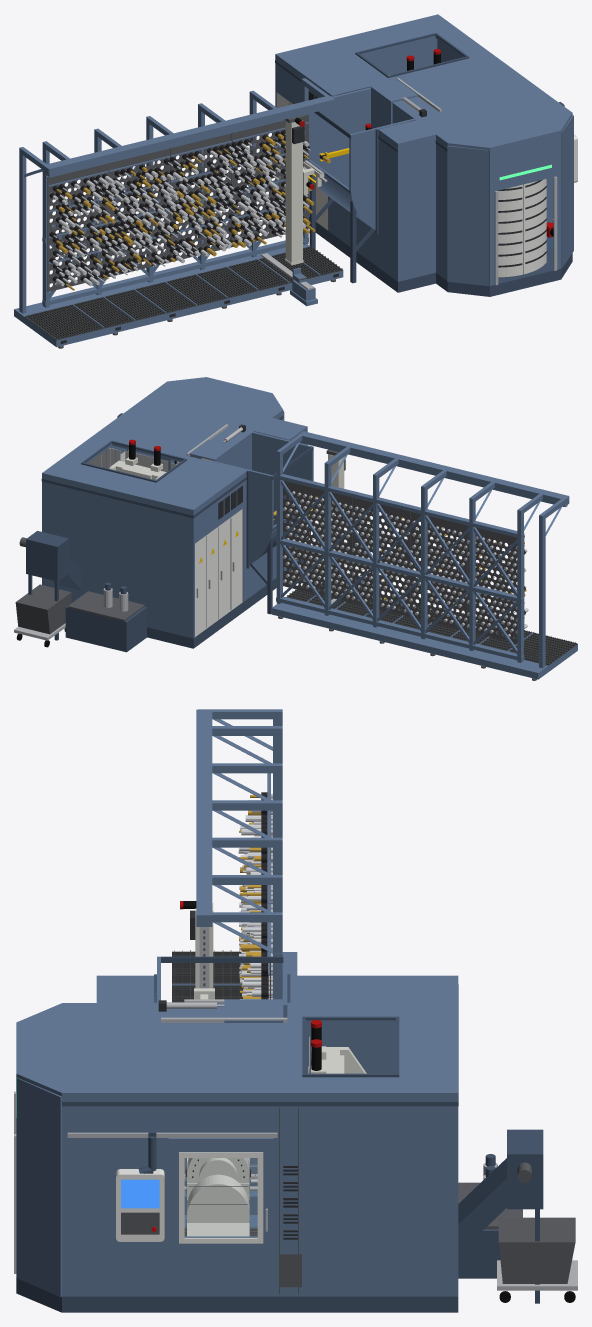
Rendered from clock800evo_fms_sidemag_blue.glb.
The picture shows the model from 3 angles, top to bottom: view 1: azimuth 30°, elevation 25°; view 2: azimuth 150°, elevation 25°; view 3: azimuth 270°, elevation 25°; orthographic projection. The views are drawn at different scales.
Parts seen in each view (by area): view 1: enclosure__mcm_blue, apc_housing__mcm_blue, twm_frame__mcm_blue, twm_tools__holder, twm_frame__anthracite_lt, twm_tools__tool_bright, twm_base__grating, tc_box__mcm_blue, twm_base__mcm_blue, twm_tools__tool_gold, enclosure__mcm_blue_dk, mag_loader__struct_grey (+11 smaller); view 2: enclosure__mcm_blue, twm_frame__mcm_blue, twm_frame__anthracite_lt, chip_coolant__mcm_blue_dk, twm_tools__steel, twm_base__mcm_blue, electrical_cabinet__evo_white, tc_box__mcm_blue, enclosure__mcm_blue_dk, twm_base__grating, apc_housing__mcm_blue, chip_cart__steel_dark (+8 smaller); view 3: enclosure__mcm_blue, apc_housing__mcm_blue, twm_frame__mcm_blue, enclosure__mcm_blue_dk, chip_coolant__mcm_blue_dk, operator_door__glass_clear, operator_door__mcm_blue, chip_cart__steel_dark, table__struct_grey, twm_tools__tool_bright, enclosure__steel, twm_base__grating (+12 smaller).
Boxes of the visible parts, left/top/right/bottom form: enclosure__mcm_blue: left=275, top=14, right=559, bottom=281; apc_housing__mcm_blue: left=436, top=104, right=573, bottom=285; twm_frame__mcm_blue: left=19, top=78, right=334, bottom=313; twm_tools__holder: left=49, top=130, right=309, bottom=286; twm_frame__anthracite_lt: left=47, top=114, right=308, bottom=291; twm_tools__tool_bright: left=52, top=133, right=310, bottom=286; twm_base__grating: left=25, top=246, right=342, bottom=340; tc_box__mcm_blue: left=309, top=87, right=414, bottom=229; twm_base__mcm_blue: left=14, top=244, right=343, bottom=347; twm_tools__tool_gold: left=56, top=134, right=315, bottom=290; enclosure__mcm_blue_dk: left=275, top=33, right=469, bottom=292; mag_loader__struct_grey: left=285, top=120, right=303, bottom=265; enclosure__mcm_blue: left=42, top=389, right=307, bottom=638; twm_frame__mcm_blue: left=276, top=431, right=569, bottom=668; twm_frame__anthracite_lt: left=283, top=480, right=524, bottom=644; chip_coolant__mcm_blue_dk: left=26, top=531, right=146, bottom=652; twm_tools__steel: left=283, top=491, right=517, bottom=637; twm_base__mcm_blue: left=271, top=589, right=577, bottom=679; electrical_cabinet__evo_white: left=195, top=509, right=242, bottom=636; tc_box__mcm_blue: left=212, top=432, right=313, bottom=564; enclosure__mcm_blue_dk: left=41, top=431, right=304, bottom=648; twm_base__grating: left=286, top=582, right=577, bottom=665; apc_housing__mcm_blue: left=156, top=377, right=284, bottom=463; chip_cart__steel_dark: left=15, top=584, right=71, bottom=634; enclosure__mcm_blue: left=96, top=975, right=458, bottom=1296; apc_housing__mcm_blue: left=16, top=1003, right=96, bottom=1297; twm_frame__mcm_blue: left=196, top=709, right=282, bottom=999; enclosure__mcm_blue_dk: left=96, top=974, right=458, bottom=1312; chip_coolant__mcm_blue_dk: left=458, top=1129, right=543, bottom=1303; operator_door__glass_clear: left=185, top=1158, right=256, bottom=1236; operator_door__mcm_blue: left=168, top=1138, right=273, bottom=1256; chip_cart__steel_dark: left=498, top=1217, right=575, bottom=1283; table__struct_grey: left=187, top=1158, right=249, bottom=1236; twm_tools__tool_bright: left=238, top=800, right=261, bottom=999; enclosure__steel: left=67, top=1002, right=287, bottom=1137; twm_base__grating: left=172, top=950, right=242, bottom=1002.
Size of the model in its own units: 10.61 by 3.54 by 6.98.
